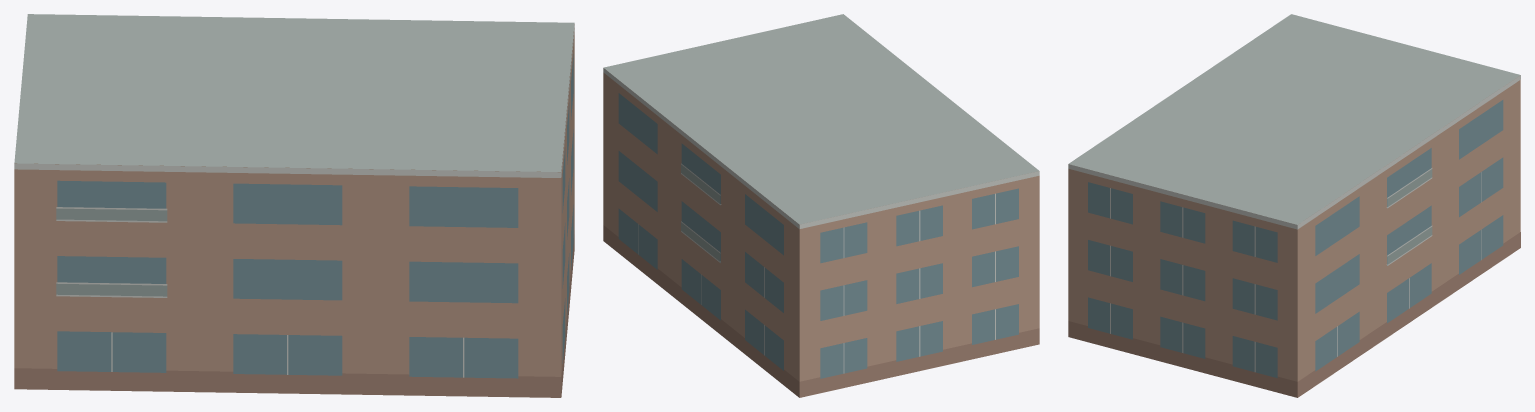
The model's file is residential-79bb8846-2950-4b33-898f-bfdbe5474f34.glb.
The picture shows the model from 3 angles, left to right: view 1: azimuth 30°, elevation 25°; view 2: azimuth 150°, elevation 25°; view 3: azimuth 270°, elevation 25°; orthographic projection. The views are drawn at different scales.
Parts seen in each view (by area): view 1: residential-79bb8846-2950-4b33-898f-bfdbe5474f34.tmp; view 2: residential-79bb8846-2950-4b33-898f-bfdbe5474f34.tmp; view 3: residential-79bb8846-2950-4b33-898f-bfdbe5474f34.tmp.
Part boxes in pixels (x1,y1,x2,y2): residential-79bb8846-2950-4b33-898f-bfdbe5474f34.tmp: [14, 14, 574, 397]; residential-79bb8846-2950-4b33-898f-bfdbe5474f34.tmp: [603, 14, 1039, 397]; residential-79bb8846-2950-4b33-898f-bfdbe5474f34.tmp: [1068, 14, 1520, 397].
Bounding box in the file's own units: 23.94 × 9.15 × 21.71.
